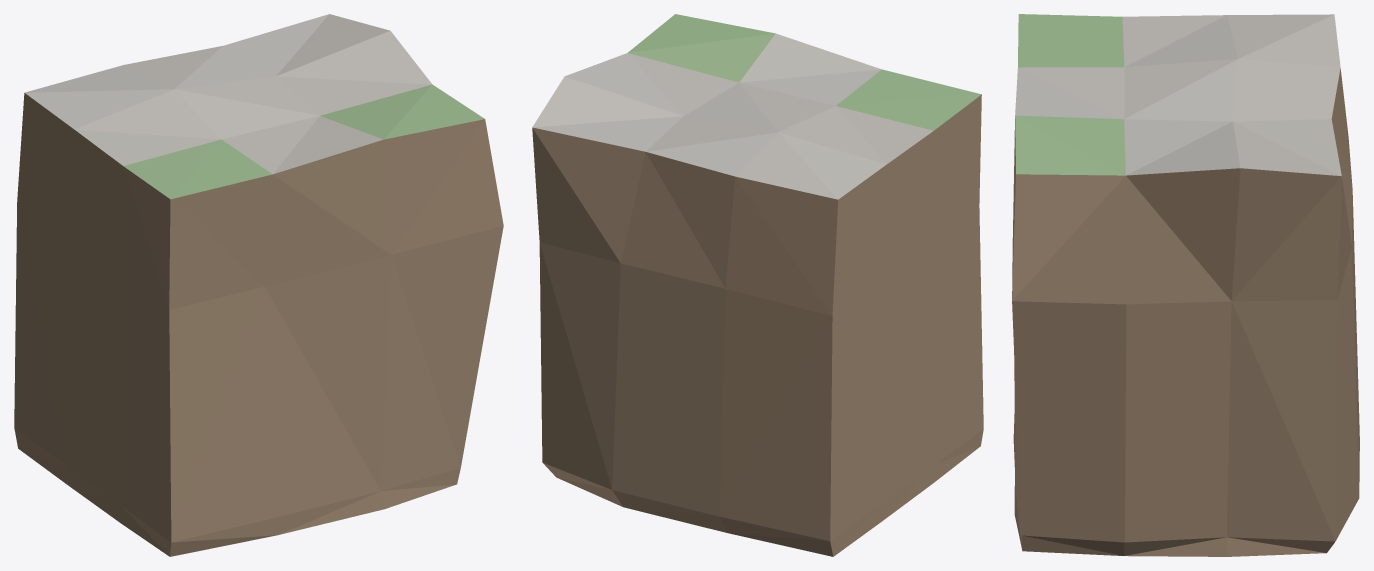
File: ROCK-07.glb
3 renders of one model, left to right at view 1: azimuth 30°, elevation 25°; view 2: azimuth 150°, elevation 25°; view 3: azimuth 270°, elevation 25°, orthographic. The views are drawn at different scales.
Visible parts, largest first — view 1: ROCK-07; view 2: ROCK-07; view 3: ROCK-07.
Part boxes in pixels (x1,y1,x2,y2): ROCK-07: (14, 14, 503, 556); ROCK-07: (532, 14, 983, 556); ROCK-07: (1012, 14, 1359, 556).
Bounding box in the file's own units: 1.06 × 1.15 × 0.8943.
